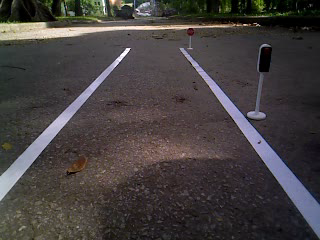Red: (255, 42, 276, 76)
Stop: (185, 27, 196, 38)
